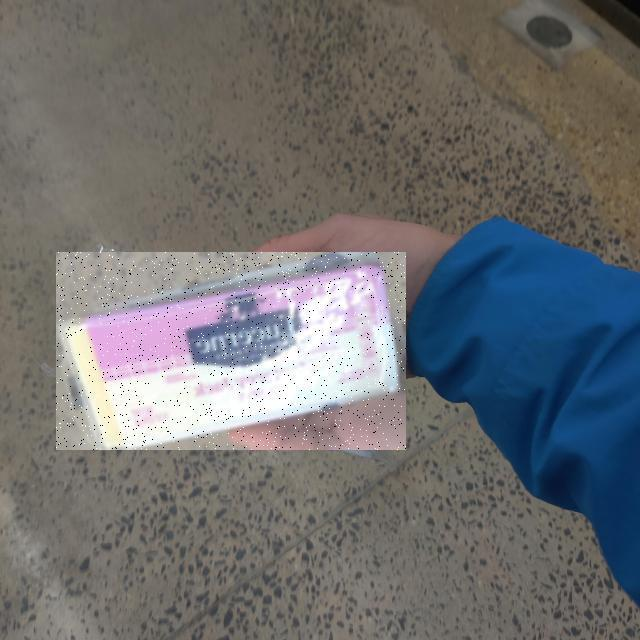cheese: (0, 225, 259, 640)
